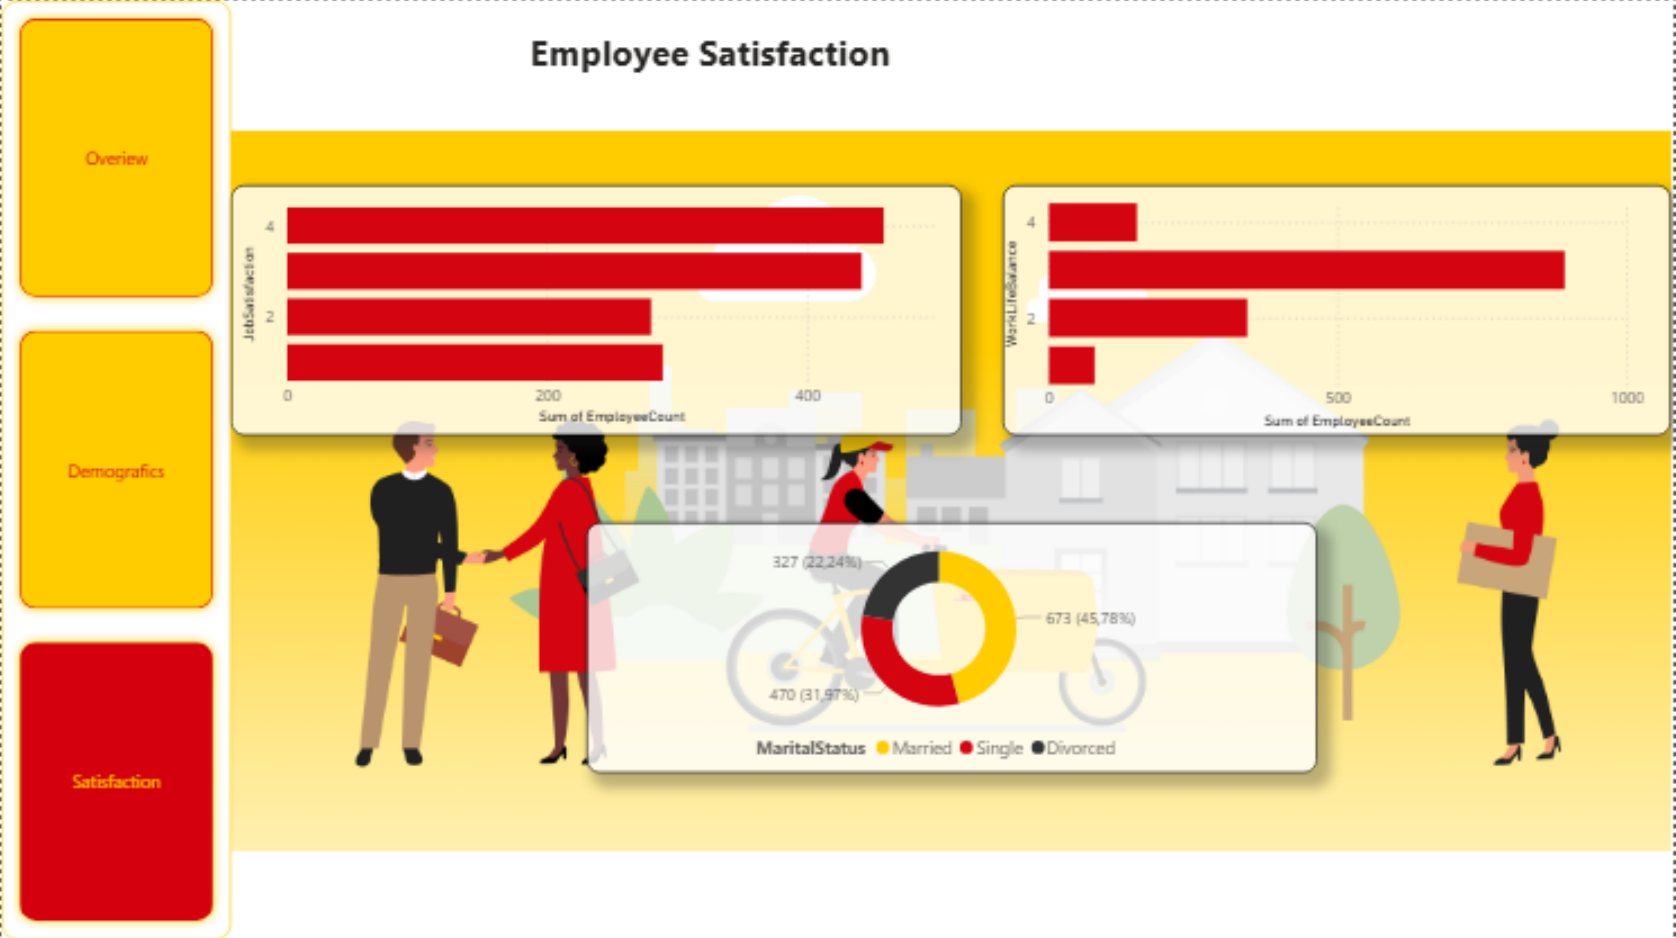

The page's visual inventory and layout, read from the dashboard file:
{"tool":"powerbi","page":{"name":"Satisfaction","canvas":[1280,720],"ordinal":2},"visuals":[{"type":"image","box":[176,64,1104,624],"z":0},{"type":"barChart","title":"Gender and EmployeeCount","fields":{"Y":["Sum(WA_Fn-UseC_-HR-Employee-Attrition.EmployeeCount)"],"Category":["WA_Fn-UseC_-HR-Employee-Attrition.JobSatisfaction"]},"box":[175.1,141.4,560,192],"z":2},{"type":"barChart","title":"Education and EmployeeCount","fields":{"Y":["Sum(WA_Fn-UseC_-HR-Employee-Attrition.EmployeeCount)"],"Category":["WA_Fn-UseC_-HR-Employee-Attrition.WorkLifeBalance"]},"box":[767.1,141.4,512,192],"z":3},{"type":"textbox","box":[400,16,480,80],"z":4},{"type":"donutChart","title":"Education and EmployeeCount","fields":{"Y":["Sum(WA_Fn-UseC_-HR-Employee-Attrition.EmployeeCount)"],"Category":["WA_Fn-UseC_-HR-Employee-Attrition.MaritalStatus"]},"box":[448,400,560,192],"z":5},{"type":"pageNavigator","box":[0,0,176,720],"z":6}]}

Visuals, with their boxes in screenshot pixels (x1, y1, x2, y2), scaled from the page's 1280x720 canvas onto the 1676x938 screenshot:
image: Rect(230, 83, 1675, 896)
"Gender and EmployeeCount" barChart: Rect(229, 184, 963, 434)
"Education and EmployeeCount" barChart: Rect(1004, 184, 1675, 434)
textbox: Rect(524, 21, 1152, 125)
"Education and EmployeeCount" donutChart: Rect(587, 521, 1320, 771)
pageNavigator: Rect(0, 0, 230, 937)
